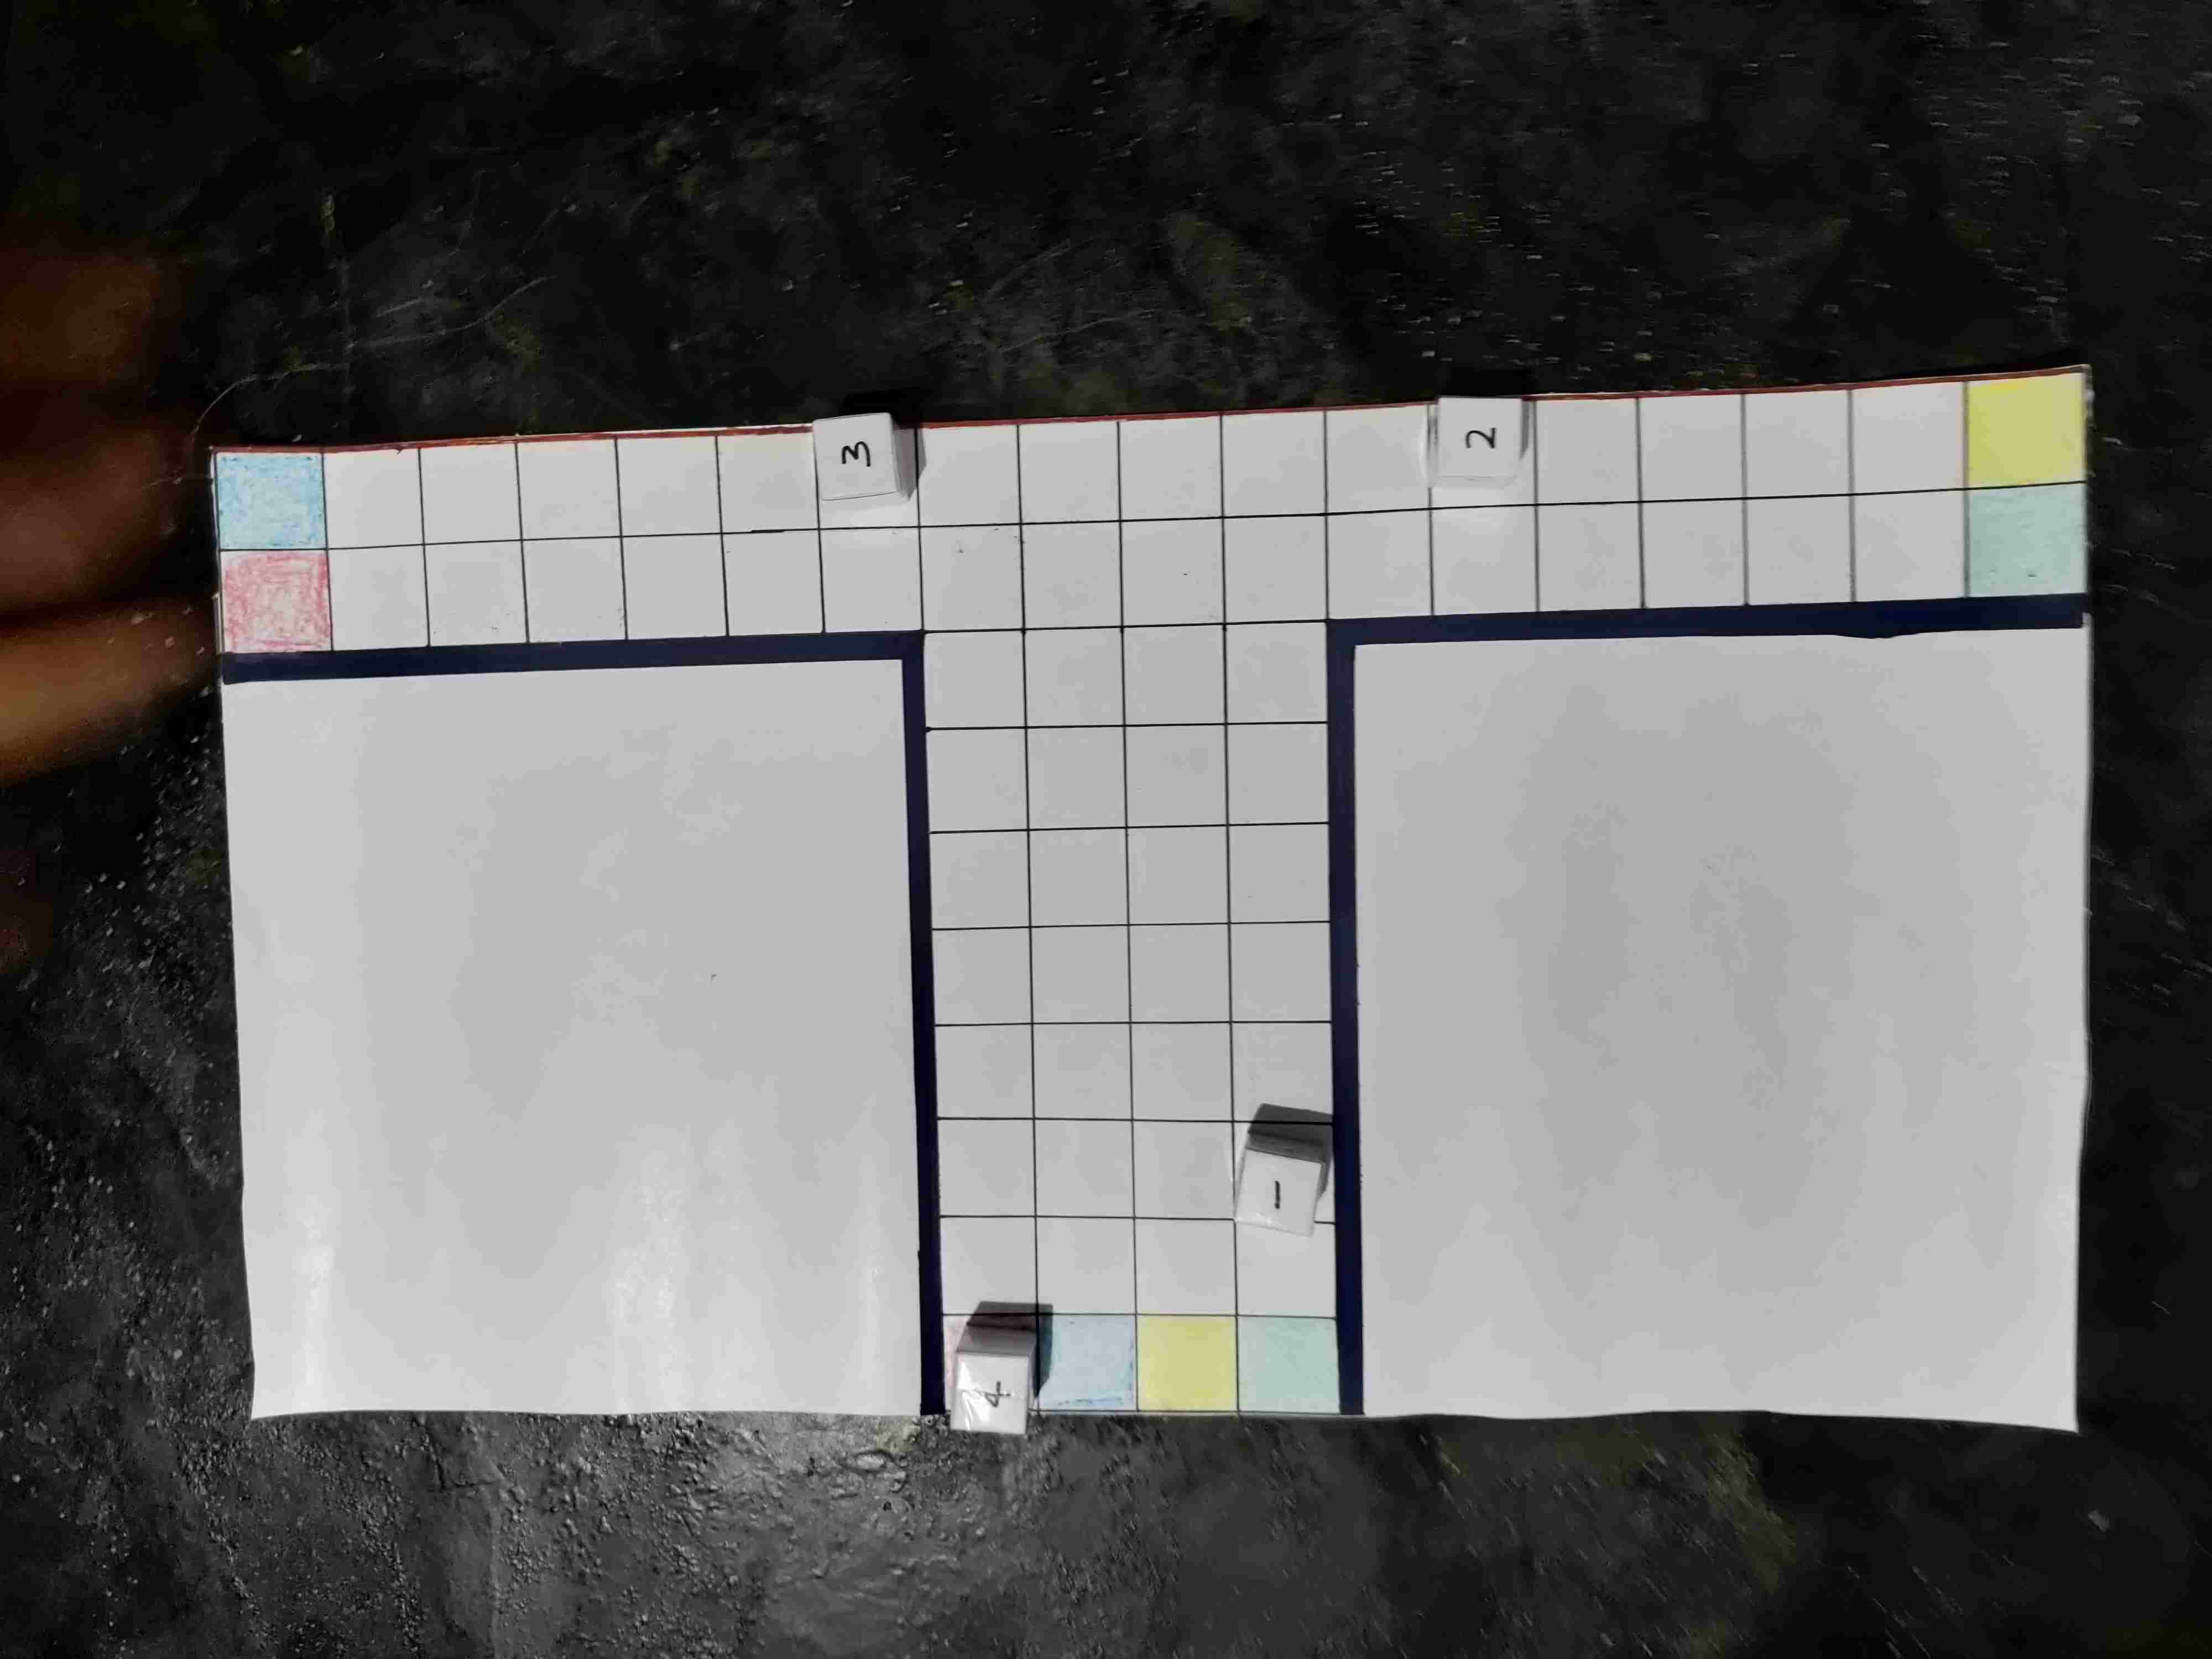arena: (209, 368, 2083, 1413)
bot: (1230, 1150, 1317, 1230), (1439, 396, 1521, 479), (815, 416, 894, 500), (954, 1349, 1028, 1438)
